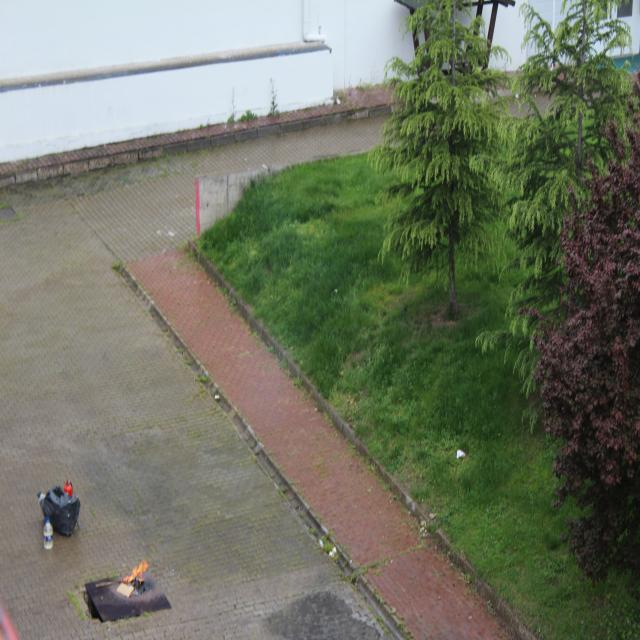fire: (122, 558, 152, 588)
